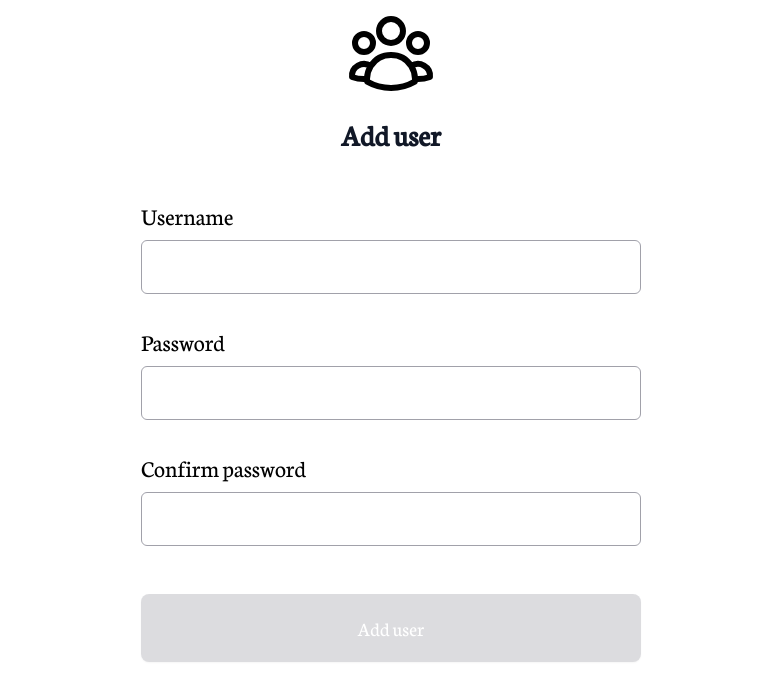
Test: Add User page › user already exists response generates alert error
The width and height of the screenshot is (783, 679).
Type "Test string" into the field labelled "Username".
click(391, 267); type("Test string")  # box x1=141 y1=240 x2=641 y2=294
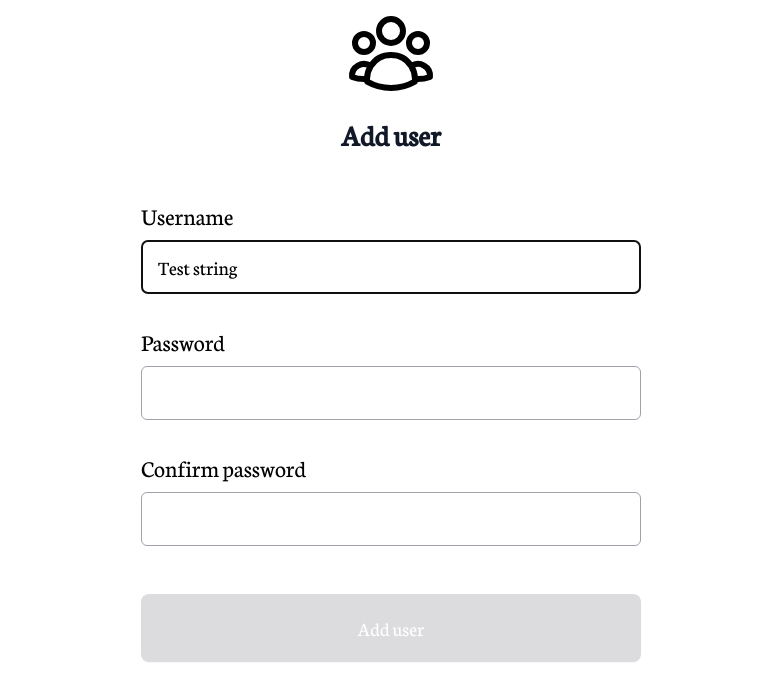
Type "Test string" into the password field labelled "Password".
click(391, 393); type("Test string")  # box x1=141 y1=366 x2=641 y2=420
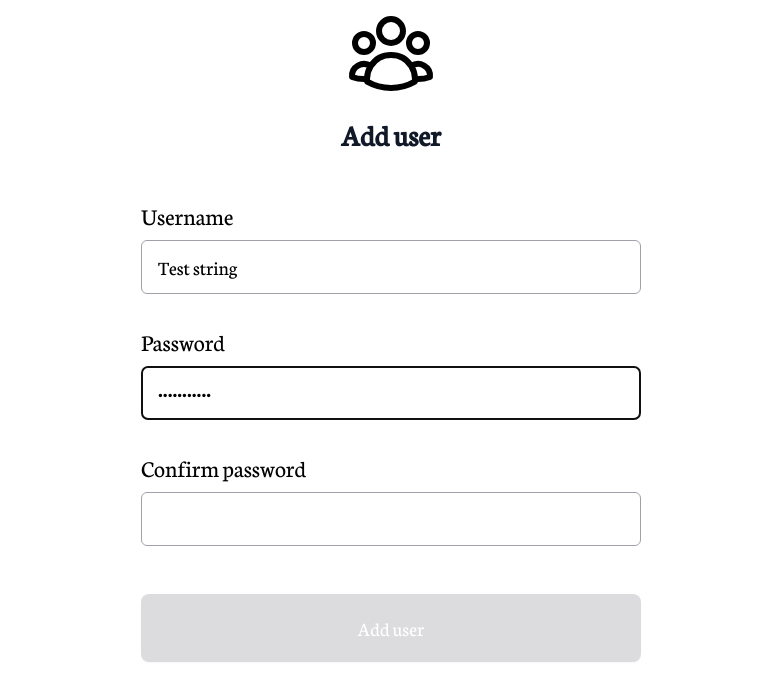
Type "Test string" into the password field labelled "Confirm password".
click(391, 519); type("Test string")  # box x1=141 y1=492 x2=641 y2=546
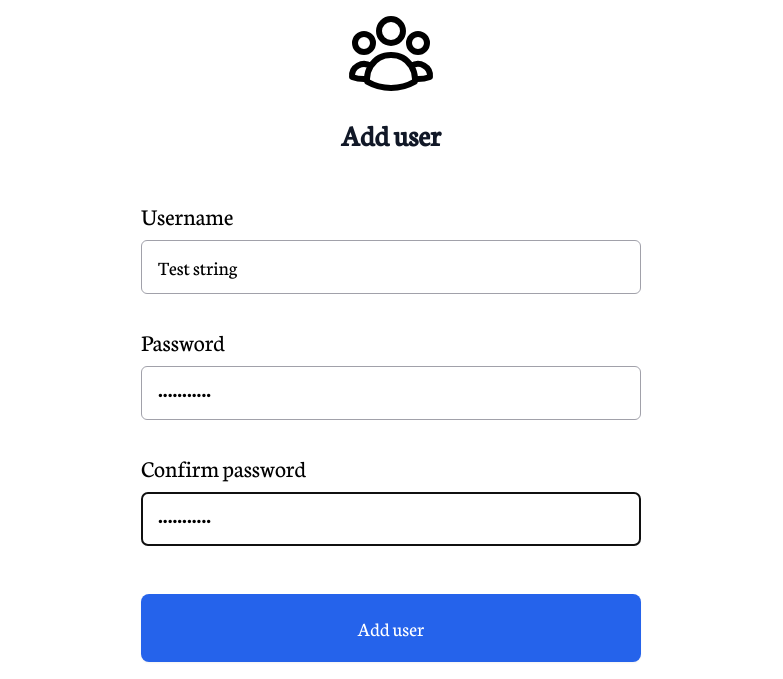
Click the button "Add user".
click(391, 628)  # box x1=141 y1=594 x2=641 y2=662
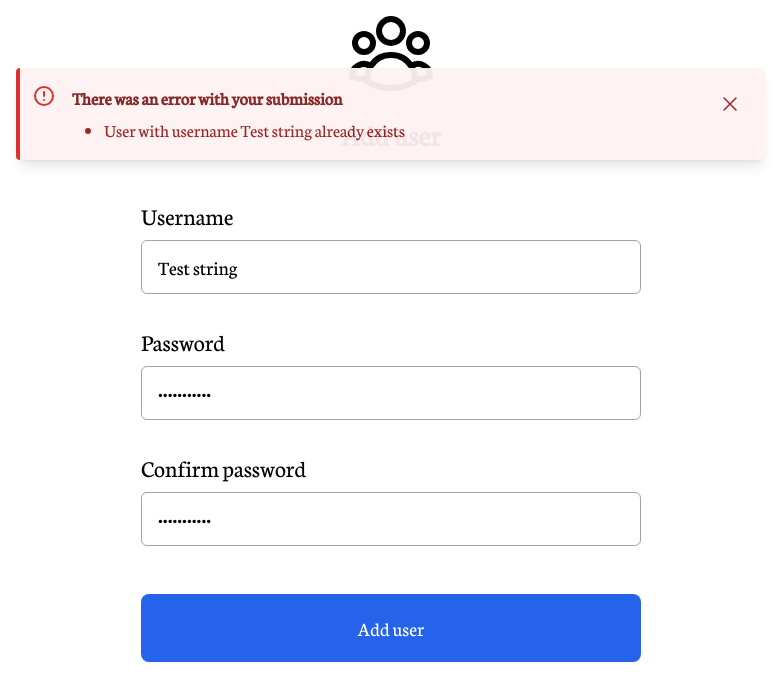
Expected: the message is shown, x1=16 y1=68 x2=766 y2=160
Expected: the number of list items is 1, x1=104 y1=116 x2=405 y2=144
